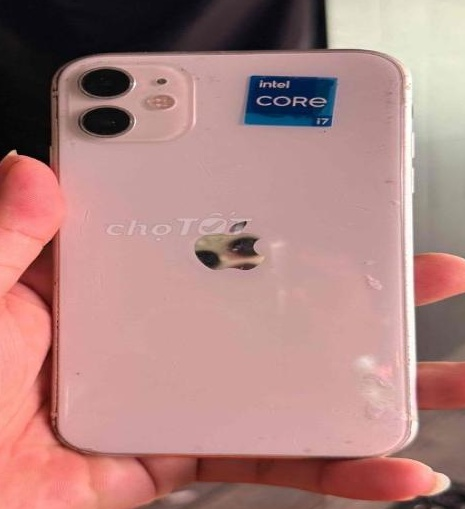scratch: (351, 252, 412, 452), (390, 69, 405, 247), (166, 63, 231, 88), (63, 54, 110, 84), (56, 120, 86, 157), (272, 435, 326, 453), (222, 244, 262, 259), (130, 55, 150, 68), (72, 371, 83, 380)
